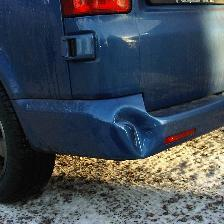dent: (106, 98, 199, 169)
